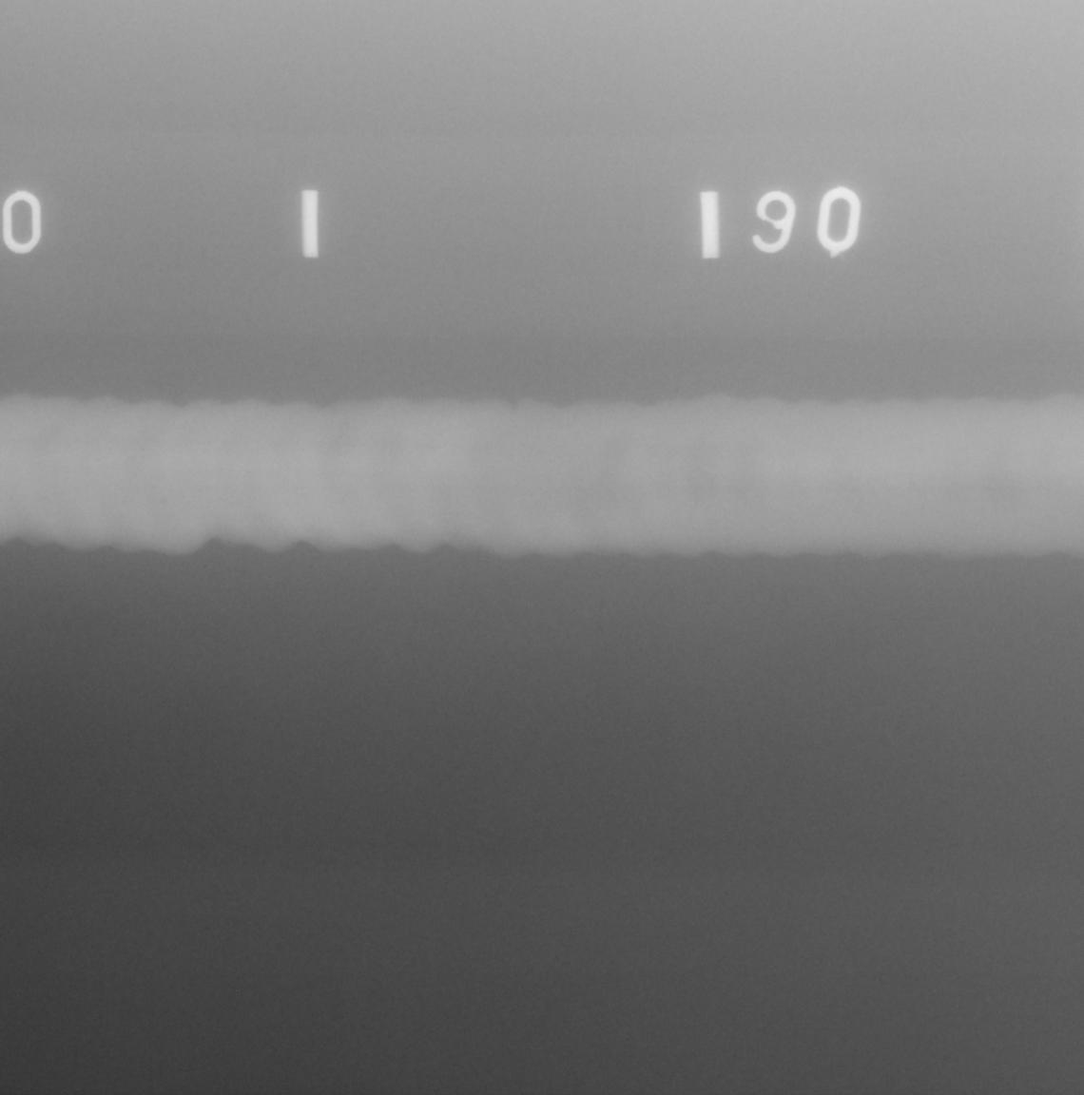Pore/Porosity: (160, 499, 167, 504)
